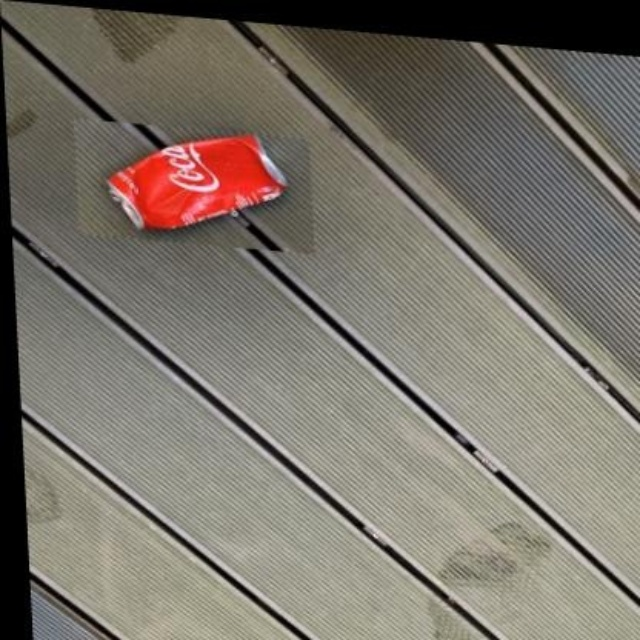trash: (108, 135, 286, 228)
